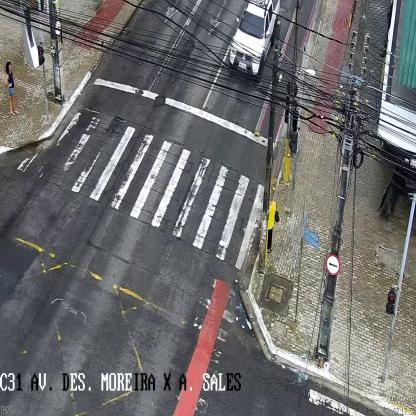car: (230, 4, 280, 79)
person: (4, 59, 21, 114), (266, 197, 277, 253)
